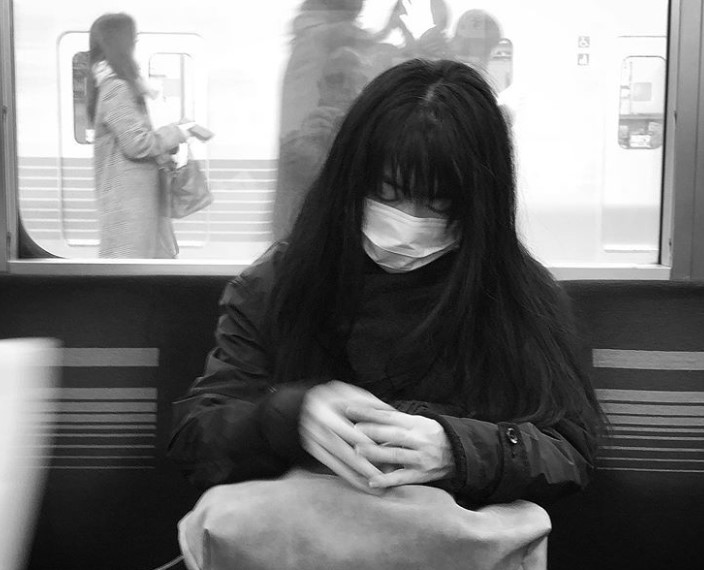face_with_mask: (342, 57, 508, 281)
